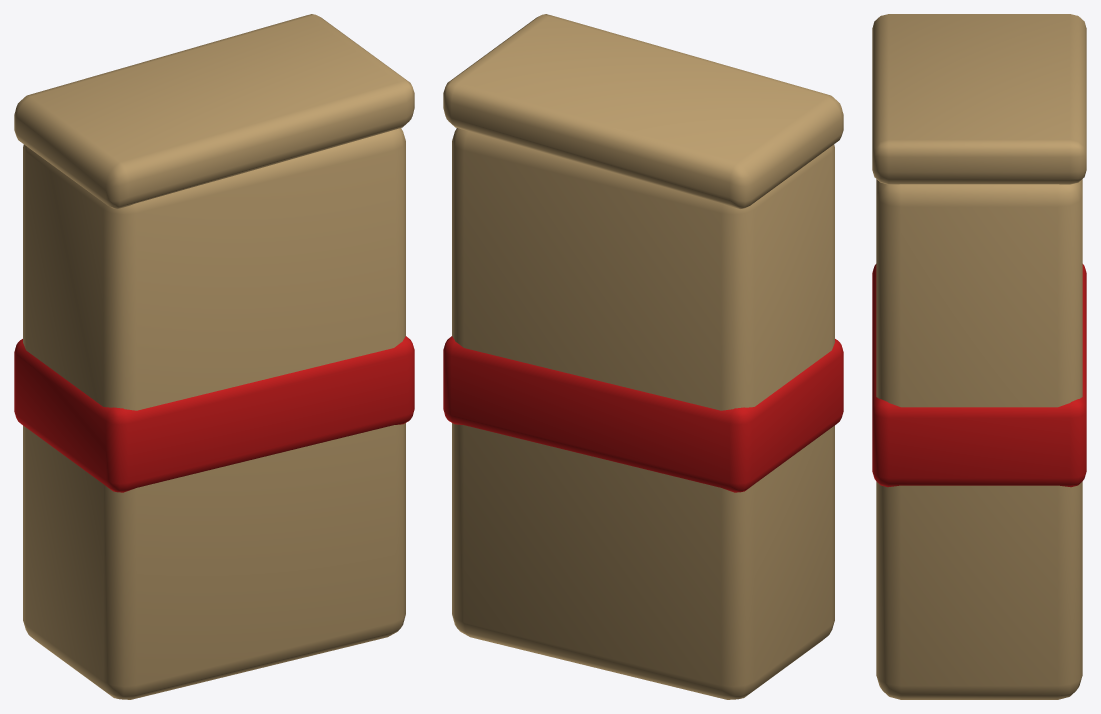
The model's file is fry_bag.glb.
3 renders of one model, left to right at view 1: azimuth 30°, elevation 25°; view 2: azimuth 150°, elevation 25°; view 3: azimuth 270°, elevation 25°, orthographic.
Parts seen in each view (by area): view 1: fry_bag; view 2: fry_bag; view 3: fry_bag.
Boxes of the visible parts, x1=… form: fry_bag: x1=14, y1=14, x2=414, y2=699; fry_bag: x1=443, y1=14, x2=843, y2=699; fry_bag: x1=872, y1=14, x2=1086, y2=699.
Size of the model in its own units: 0.087 by 0.1507 by 0.052.
